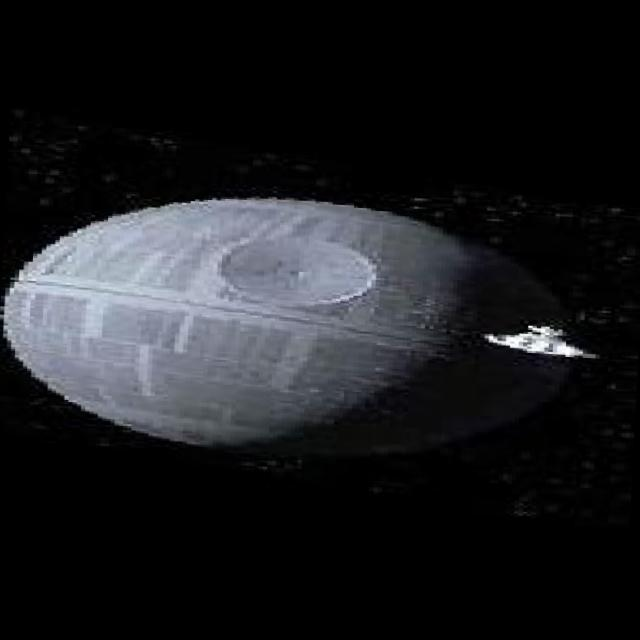Death Star: (0, 184, 567, 466)
